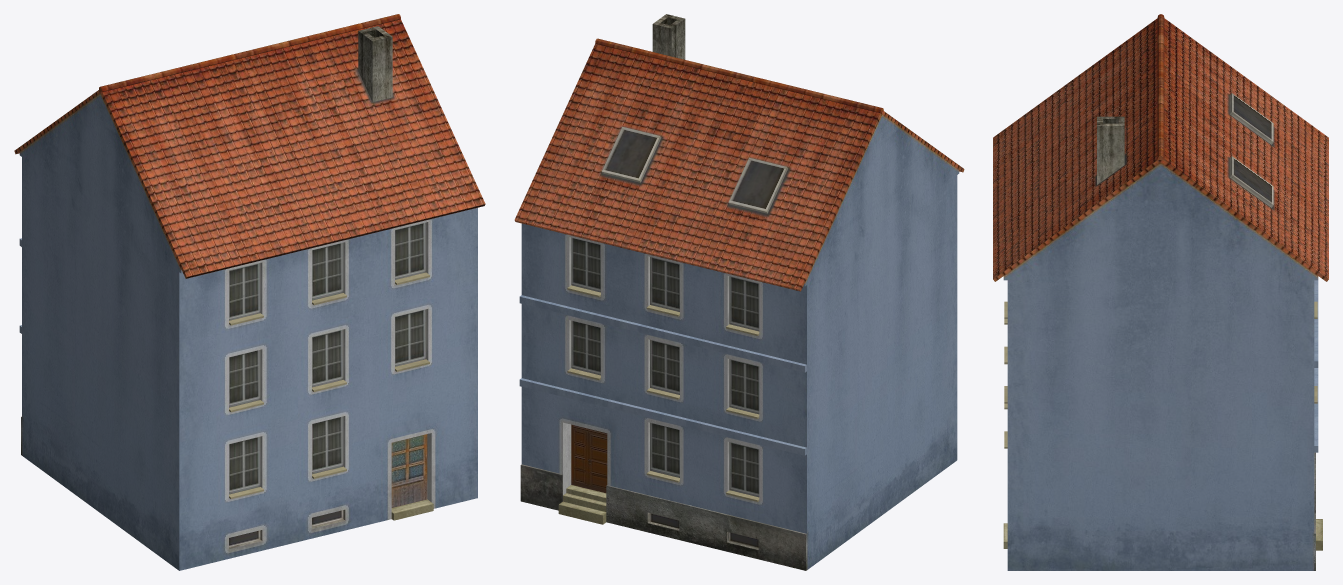
The model's file is apartment.fbx.
The picture shows the model from 3 angles, left to right: view 1: azimuth 30°, elevation 25°; view 2: azimuth 150°, elevation 25°; view 3: azimuth 270°, elevation 25°; orthographic projection. The views are drawn at different scales.
Visible parts, largest first — view 1: Object_apartmentD_tex.jpg; view 2: Object_apartmentD_tex.jpg; view 3: Object_apartmentD_tex.jpg.
Part boxes in pixels (x1,y1,x2,y2): Object_apartmentD_tex.jpg: (14,14,485,570); Object_apartmentD_tex.jpg: (514,14,964,570); Object_apartmentD_tex.jpg: (993,14,1328,570).
Bounding box in the file's own units: 1.79 × 2.5 × 1.79.
